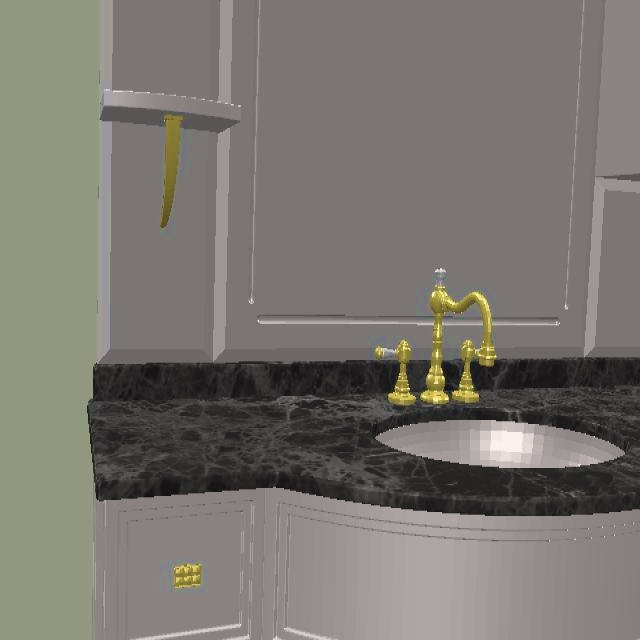cabinet: (89, 489, 640, 640)
washbasin: (377, 415, 625, 475)
